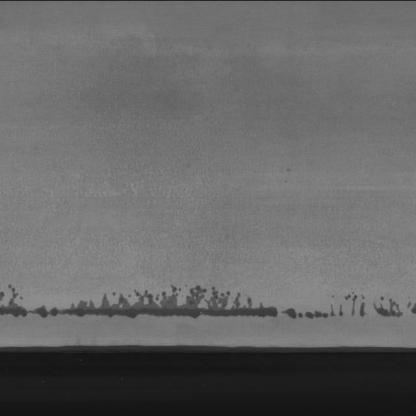oil_spot: (3, 274, 416, 326)
